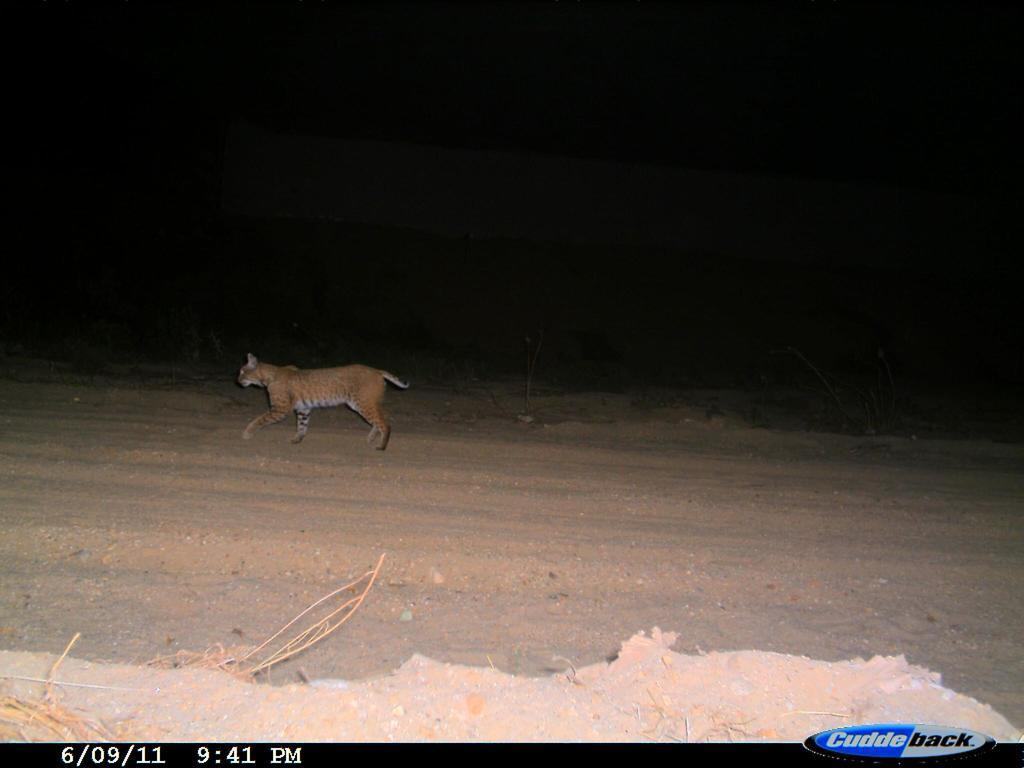bobcat: (233, 344, 418, 459)
